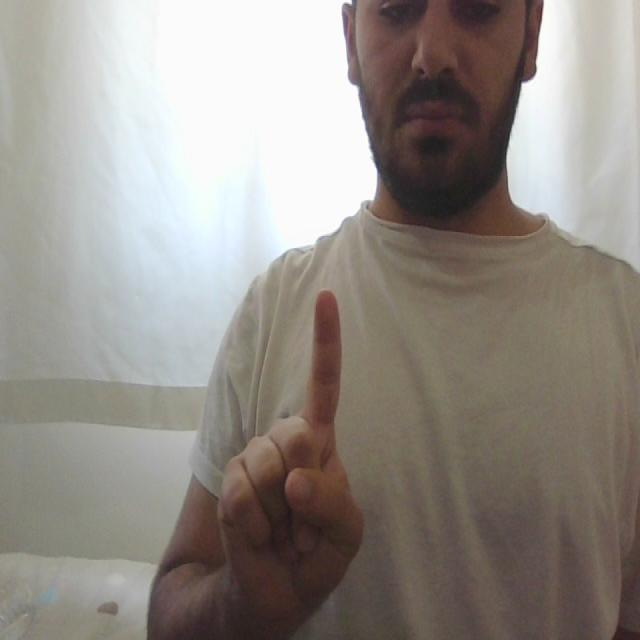Hayir: (221, 290, 391, 615)
